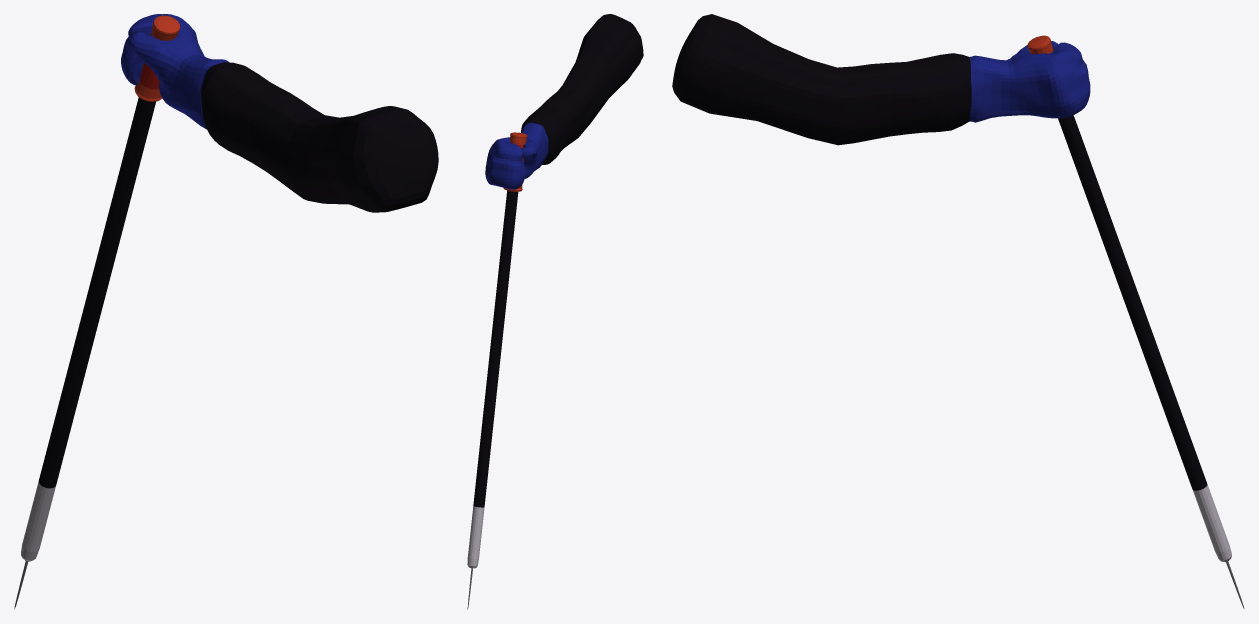
File: MS_Weapon_02.fbx
The picture shows the model from 3 angles, left to right: view 1: azimuth 30°, elevation 25°; view 2: azimuth 150°, elevation 25°; view 3: azimuth 270°, elevation 25°; orthographic projection. The views are drawn at different scales.
Parts seen in each view (by area): view 1: MS_Weapon_02; view 2: MS_Weapon_02; view 3: MS_Weapon_02.
Part boxes in pixels (<box>): MS_Weapon_02: <box>14,14,438,609</box>; MS_Weapon_02: <box>467,14,643,609</box>; MS_Weapon_02: <box>672,14,1244,608</box>.
Bounding box in the file's own units: 16.93 × 99.47 × 83.3.
